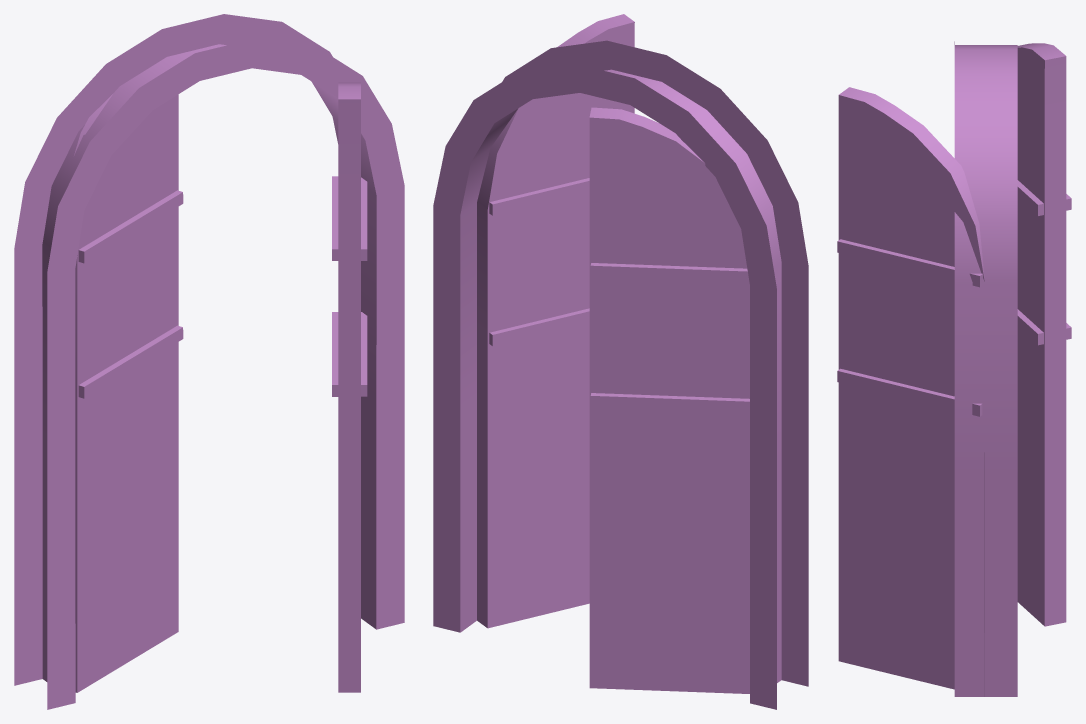
Rendered from Gate_Open.fbx.
The picture shows the model from 3 angles, left to right: view 1: azimuth 30°, elevation 25°; view 2: azimuth 150°, elevation 25°; view 3: azimuth 270°, elevation 25°; orthographic projection. The views are drawn at different scales.
Visible parts, largest first — view 1: Gate_Open; view 2: Gate_Open; view 3: Gate_Open.
Part boxes in pixels (bbox=[...]): Gate_Open: bbox=[14, 14, 404, 709]; Gate_Open: bbox=[433, 14, 808, 709]; Gate_Open: bbox=[837, 41, 1071, 696].
Size of the model in its own units: 470 by 780 by 280.
